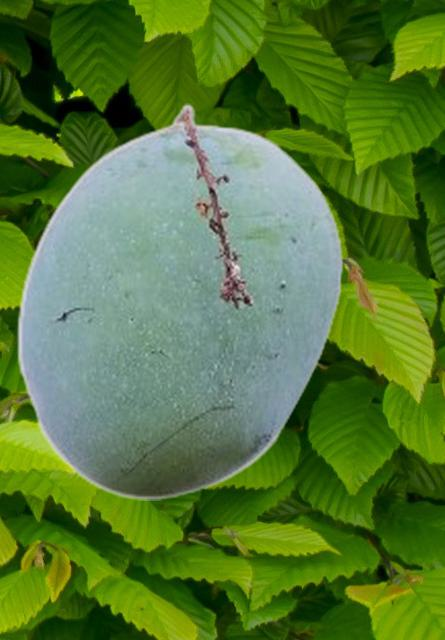green_mango: (16, 103, 343, 499)
